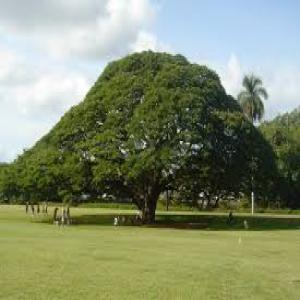Tree: (8, 47, 278, 223)
